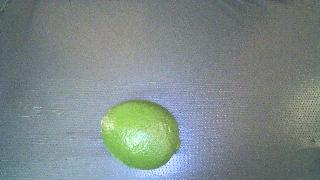EXPORTACION: (101, 100, 181, 170)
